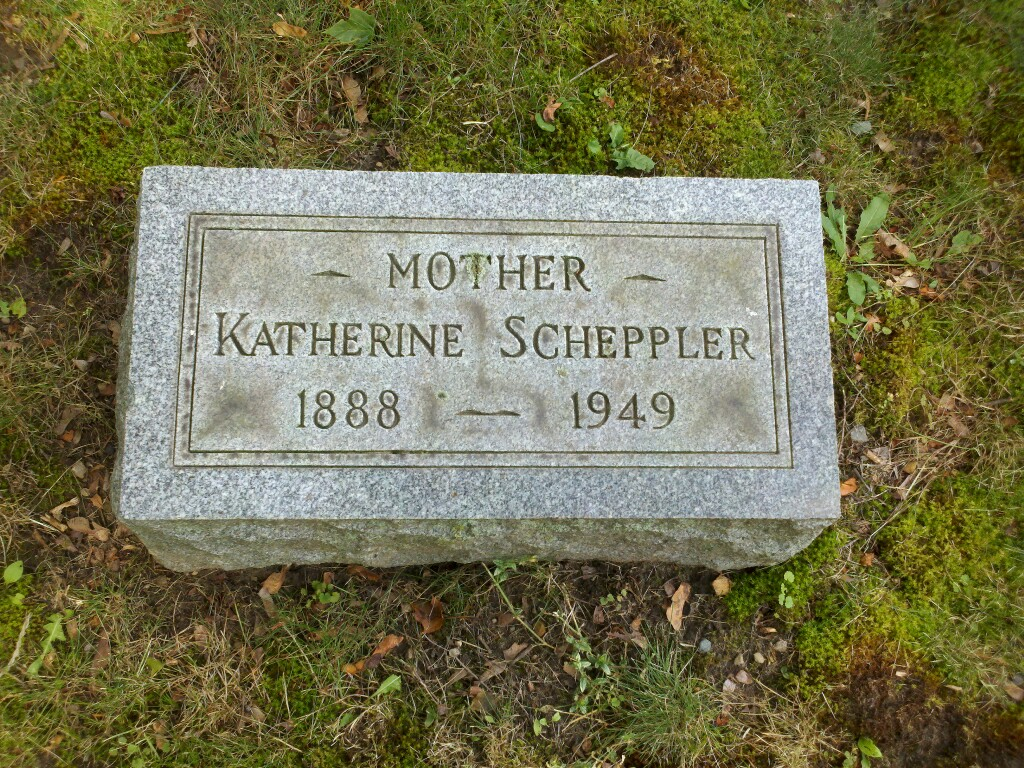flat: (108, 165, 842, 582)
